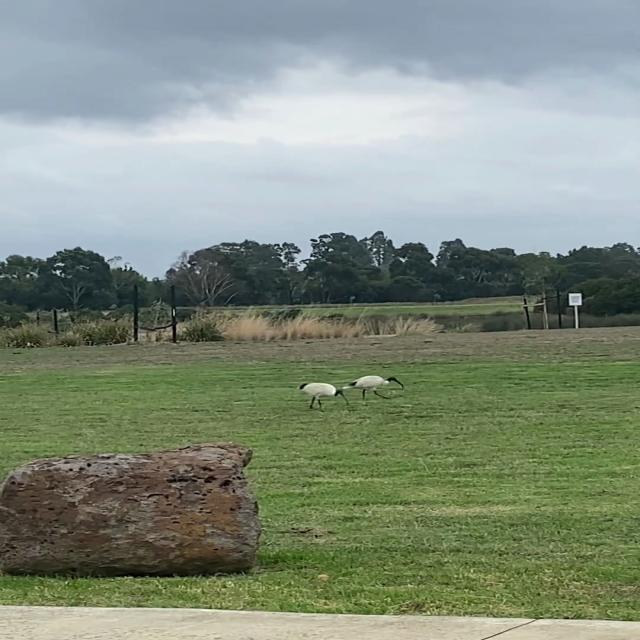Birds-Ibis: (296, 376, 352, 416), (348, 370, 408, 406)
